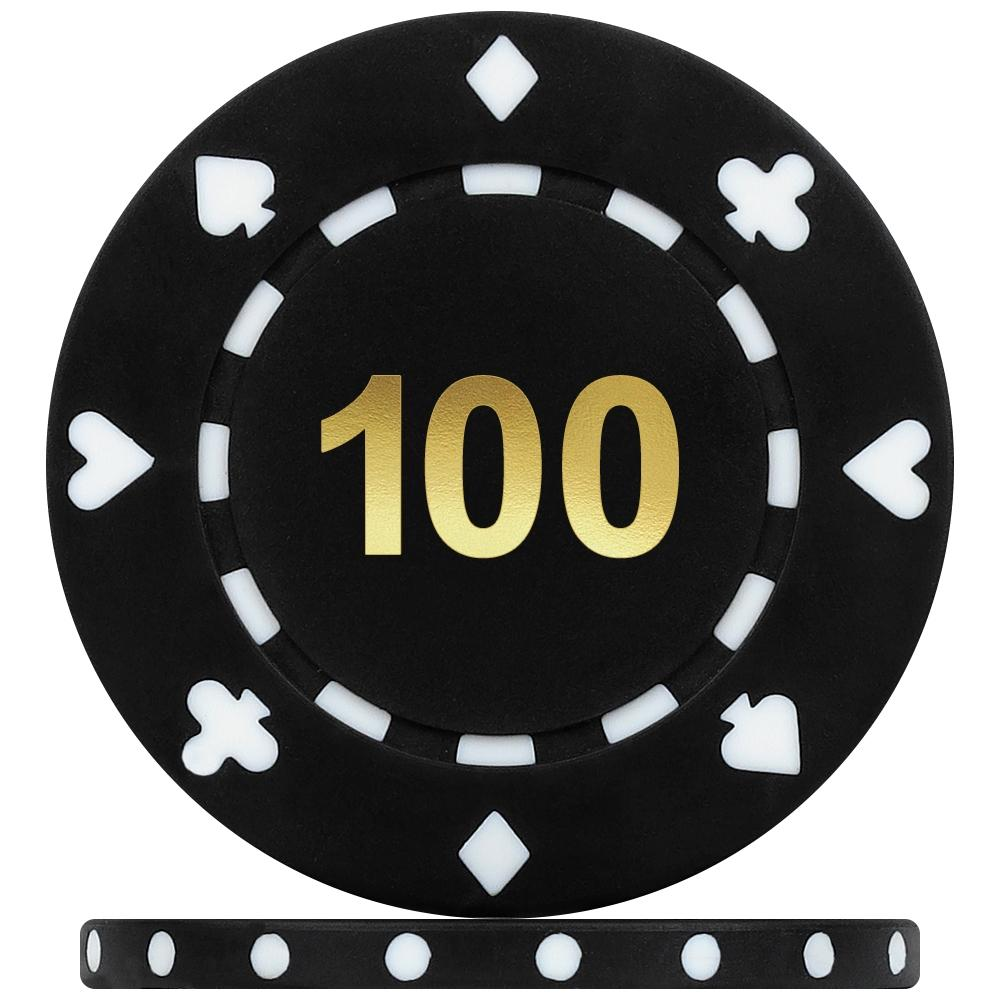chip-black: (47, 12, 951, 915), (80, 920, 920, 988)
